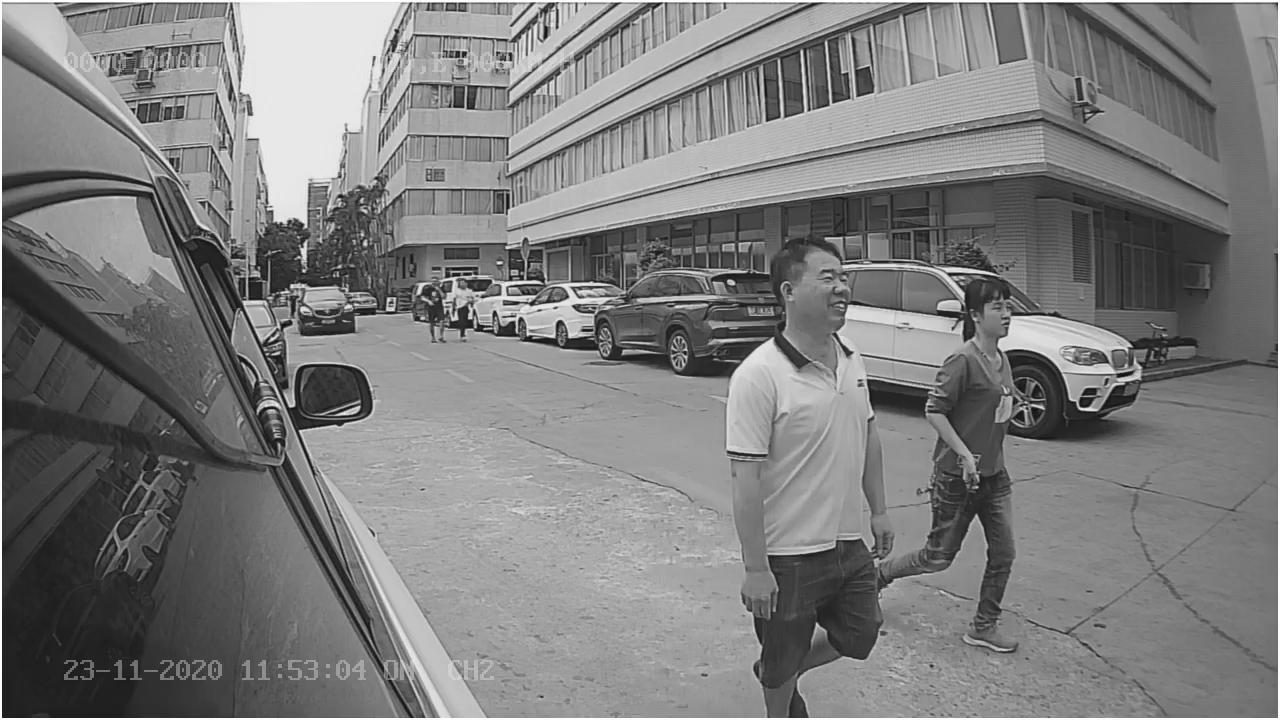person: (721, 234, 889, 697), (910, 263, 1028, 630)
